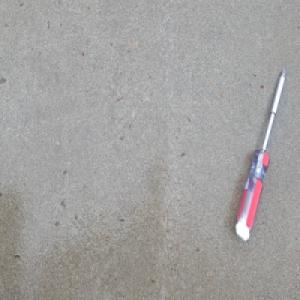Screwdriver: (234, 65, 287, 244)
